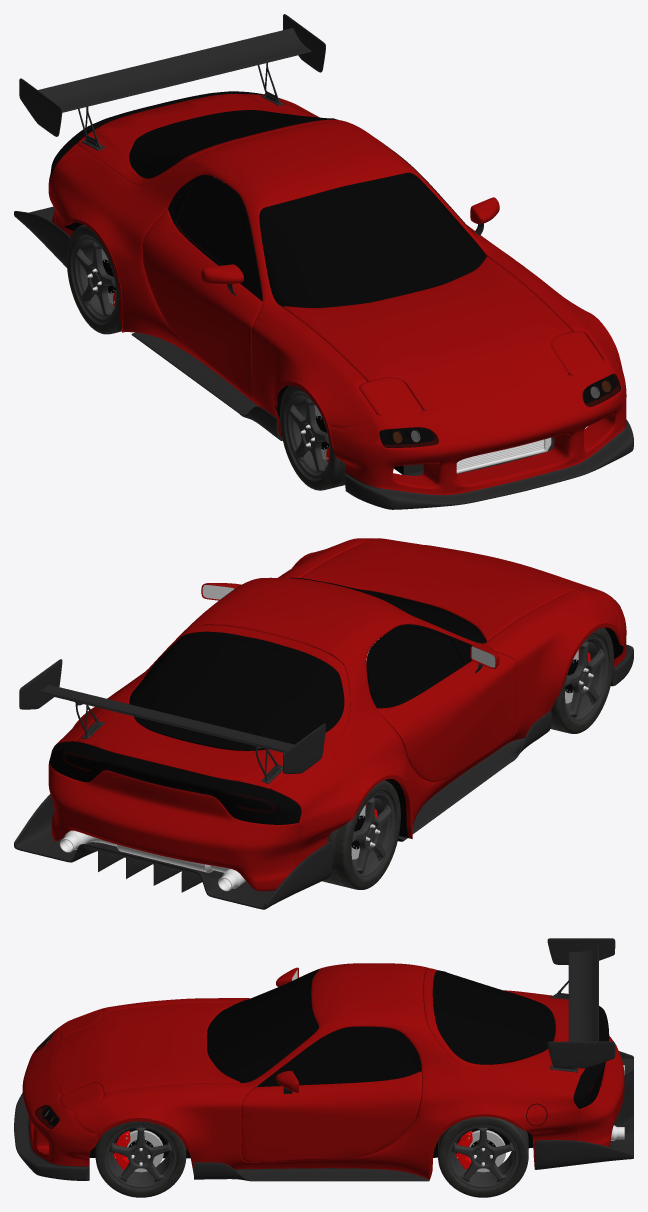
The picture shows the model from 3 angles, top to bottom: view 1: azimuth 30°, elevation 25°; view 2: azimuth 150°, elevation 25°; view 3: azimuth 270°, elevation 25°; orthographic projection. The views are drawn at different scales.
Parts seen in each view (by area): view 1: Object_5, Object_8, Object_50, Object_6, Object_7, Object_42, Object_38, Object_13, Object_46, Object_48, Object_19, Object_9 (+1 smaller); view 2: Object_5, Object_8, Object_6, Object_9, Object_50, Object_7, Object_48, Object_42, Object_38, Object_16, Object_46, Object_12; view 3: Object_5, Object_8, Object_6, Object_50, Object_7, Object_38, Object_42, Object_48, Object_46, Object_9, Object_13, Object_30 (+1 smaller).
Boxes of the visible parts, bbox=[...] form: Object_5: bbox=[48, 94, 626, 495]; Object_8: bbox=[135, 111, 481, 301]; Object_50: bbox=[19, 14, 325, 150]; Object_6: bbox=[14, 206, 633, 509]; Object_7: bbox=[64, 110, 486, 474]; Object_42: bbox=[72, 235, 116, 323]; Object_38: bbox=[285, 391, 329, 479]; Object_13: bbox=[379, 373, 620, 447]; Object_46: bbox=[280, 385, 353, 490]; Object_48: bbox=[66, 224, 121, 334]; Object_19: bbox=[456, 437, 551, 473]; Object_9: bbox=[49, 91, 283, 178]; Object_5: bbox=[48, 538, 626, 891]; Object_8: bbox=[135, 587, 481, 745]; Object_6: bbox=[14, 644, 633, 909]; Object_9: bbox=[49, 741, 301, 824]; Object_50: bbox=[19, 659, 325, 783]; Object_7: bbox=[129, 577, 623, 841]; Object_48: bbox=[322, 780, 400, 889]; Object_42: bbox=[351, 791, 395, 879]; Object_38: bbox=[564, 635, 608, 723]; Object_16: bbox=[59, 830, 245, 891]; Object_46: bbox=[550, 627, 613, 733]; Object_12: bbox=[202, 585, 495, 667]; Object_5: bbox=[22, 963, 624, 1180]; Object_8: bbox=[215, 971, 549, 1083]; Object_6: bbox=[14, 1051, 633, 1181]; Object_50: bbox=[547, 938, 615, 1072]; Object_7: bbox=[90, 969, 555, 1158]; Object_38: bbox=[104, 1124, 176, 1189]; Object_42: bbox=[447, 1124, 519, 1189]; Object_48: bbox=[438, 1116, 528, 1197]; Object_46: bbox=[95, 1121, 186, 1197]; Object_9: bbox=[573, 1006, 609, 1108]; Object_13: bbox=[34, 1030, 59, 1129]; Object_30: bbox=[469, 1130, 505, 1172].
Bounding box in the file's own units: 5.14 × 3.29 × 11.66.
Materials: 26 (3 with a texture image).
